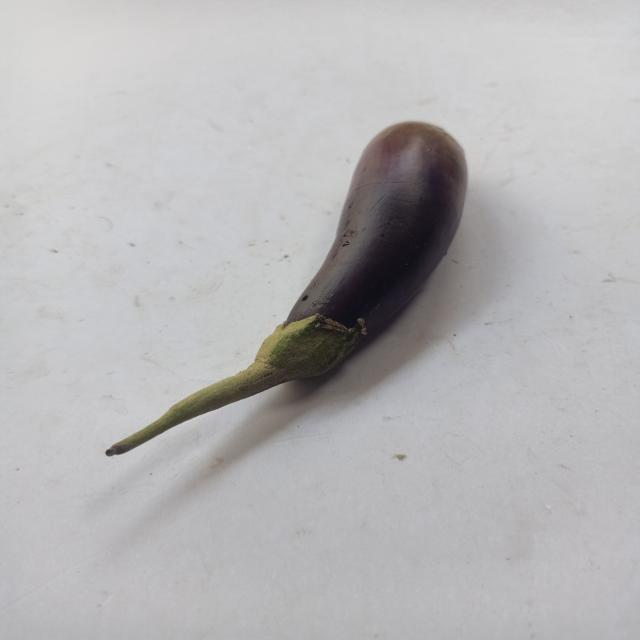Brinjal: (77, 98, 484, 476)
